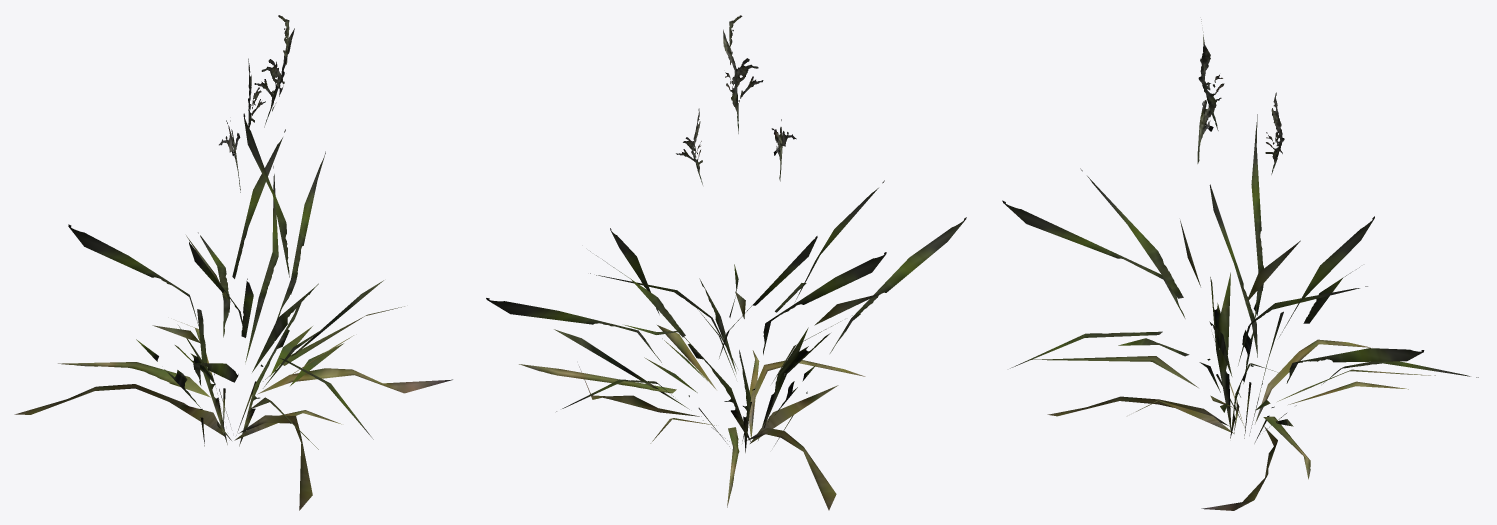
3 views of the same model, side by side, from view 1: azimuth 30°, elevation 25°; view 2: azimuth 150°, elevation 25°; view 3: azimuth 270°, elevation 25° (orthographic). The views are drawn at different scales.
Parts seen in each view (by area): view 1: grass_medium_01_mid_b_LOD0; view 2: grass_medium_01_mid_b_LOD0; view 3: grass_medium_01_mid_b_LOD0.
Part boxes in pixels (<box>): grass_medium_01_mid_b_LOD0: <box>14,15,452,510</box>; grass_medium_01_mid_b_LOD0: <box>486,15,966,510</box>; grass_medium_01_mid_b_LOD0: <box>1002,19,1478,510</box>.
Bounding box in the file's own units: 0.7674 × 0.8829 × 0.8747.
Materials: 1 (1 with a texture image).
